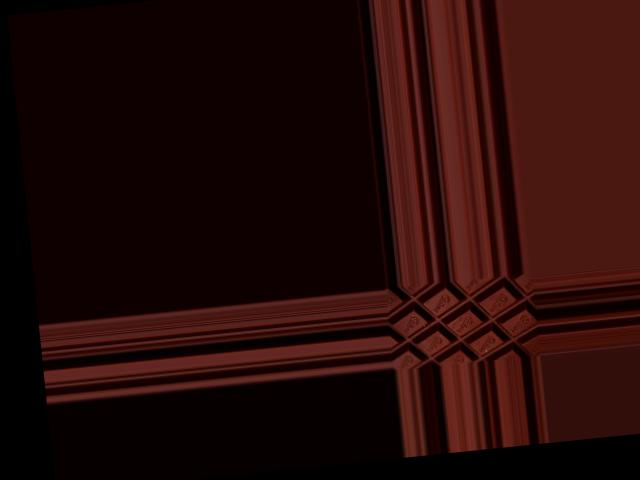chocolate: (389, 272, 540, 367)
